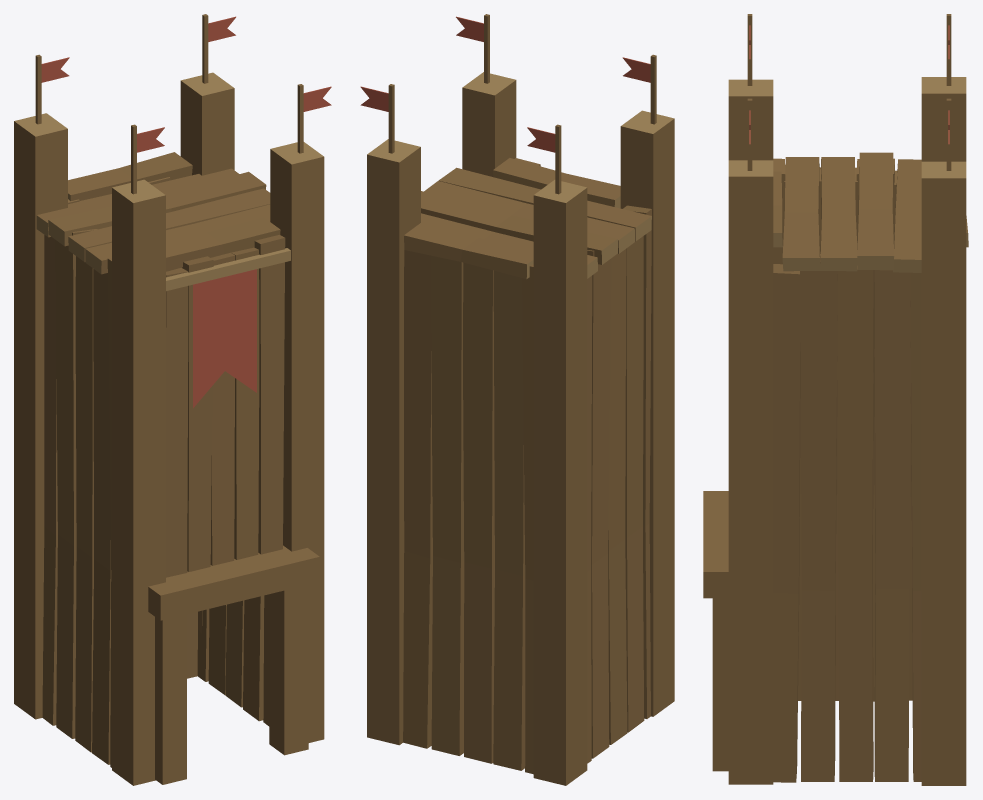
Rendered from Watch Tower.glb.
3 views of the same model, side by side, from view 1: azimuth 30°, elevation 25°; view 2: azimuth 150°, elevation 25°; view 3: azimuth 270°, elevation 25° (orthographic). The views are drawn at different scales.
Parts seen in each view (by area): view 1: WatchTower_FirstAge_Level2; view 2: WatchTower_FirstAge_Level2; view 3: WatchTower_FirstAge_Level2.
Boxes of the visible parts, bbox=[...] form: WatchTower_FirstAge_Level2: bbox=[14, 14, 331, 785]; WatchTower_FirstAge_Level2: bbox=[360, 14, 674, 785]; WatchTower_FirstAge_Level2: bbox=[703, 14, 968, 785].
Size of the model in its own units: 0.505 by 1.46 by 0.5193.
